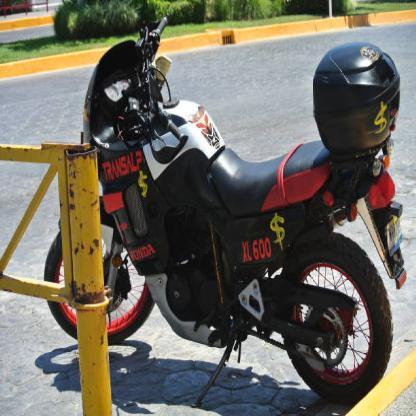Motorcycle: (78, 14, 406, 410)
